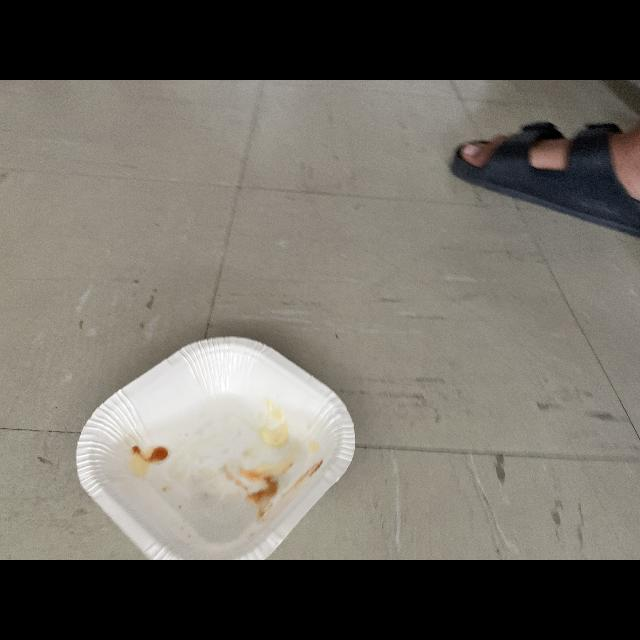cardboard_bowl: (63, 336, 363, 560)
